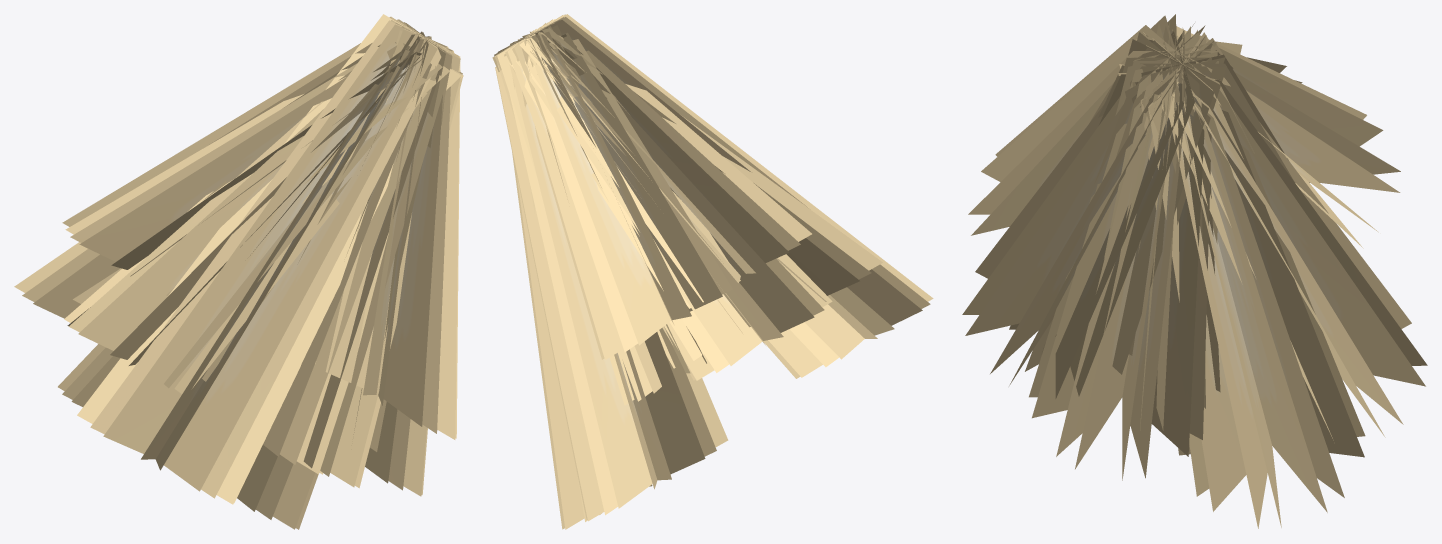
The model's file is Sunbeams_A.fbx.
3 views of the same model, side by side, from view 1: azimuth 30°, elevation 25°; view 2: azimuth 150°, elevation 25°; view 3: azimuth 270°, elevation 25° (orthographic). The views are drawn at different scales.
Visible parts, largest first — view 1: Sunbeams_A; view 2: Sunbeams_A; view 3: Sunbeams_A.
Boxes of the visible parts, box(x1,y1,x2,y2) form: Sunbeams_A: box(14, 14, 463, 529); Sunbeams_A: box(492, 14, 933, 529); Sunbeams_A: box(962, 14, 1427, 528).
Size of the model in its own units: 5.14 by 6 by 4.64.
1 material, 1 textured.
